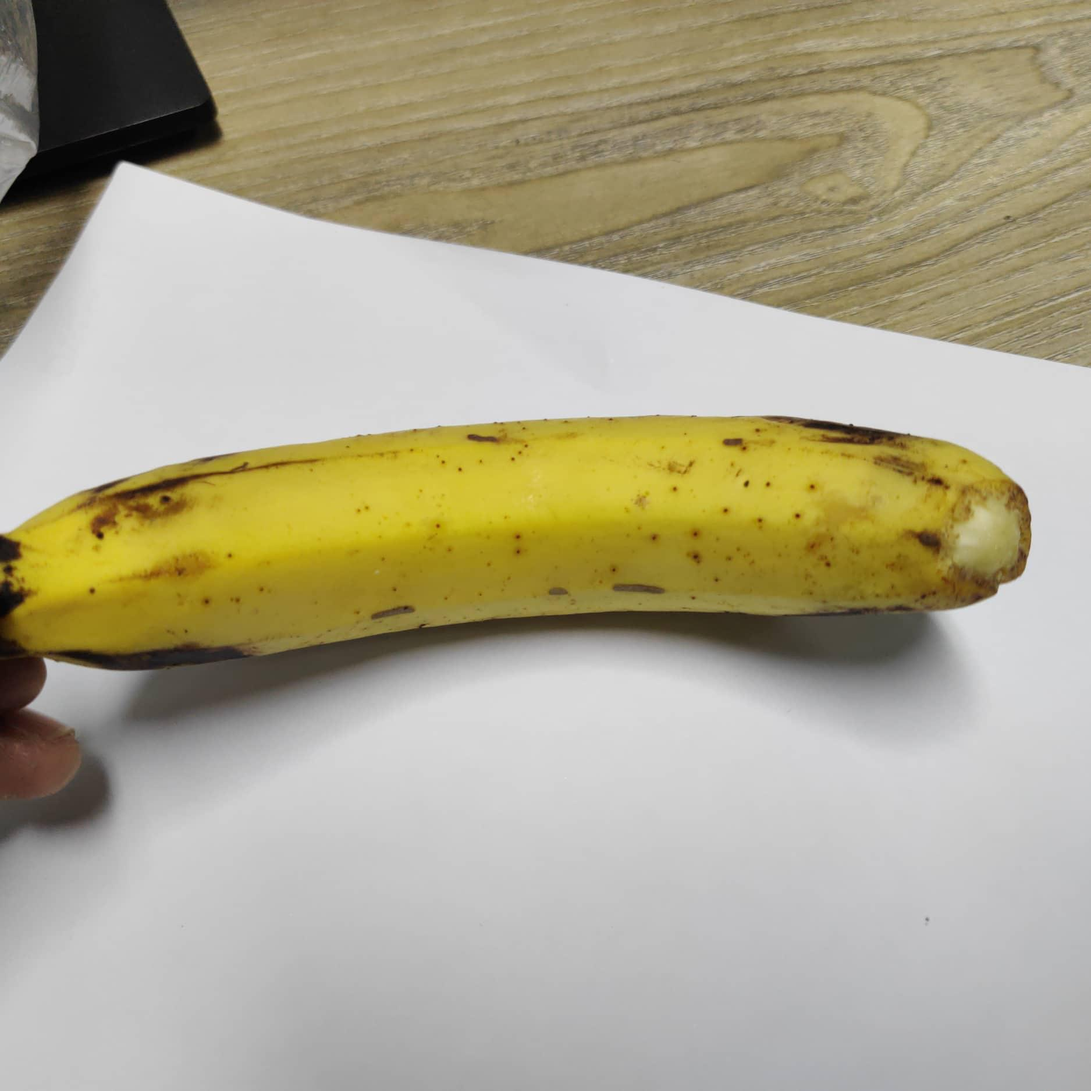Banana Ripe: (8, 410, 1055, 713)
